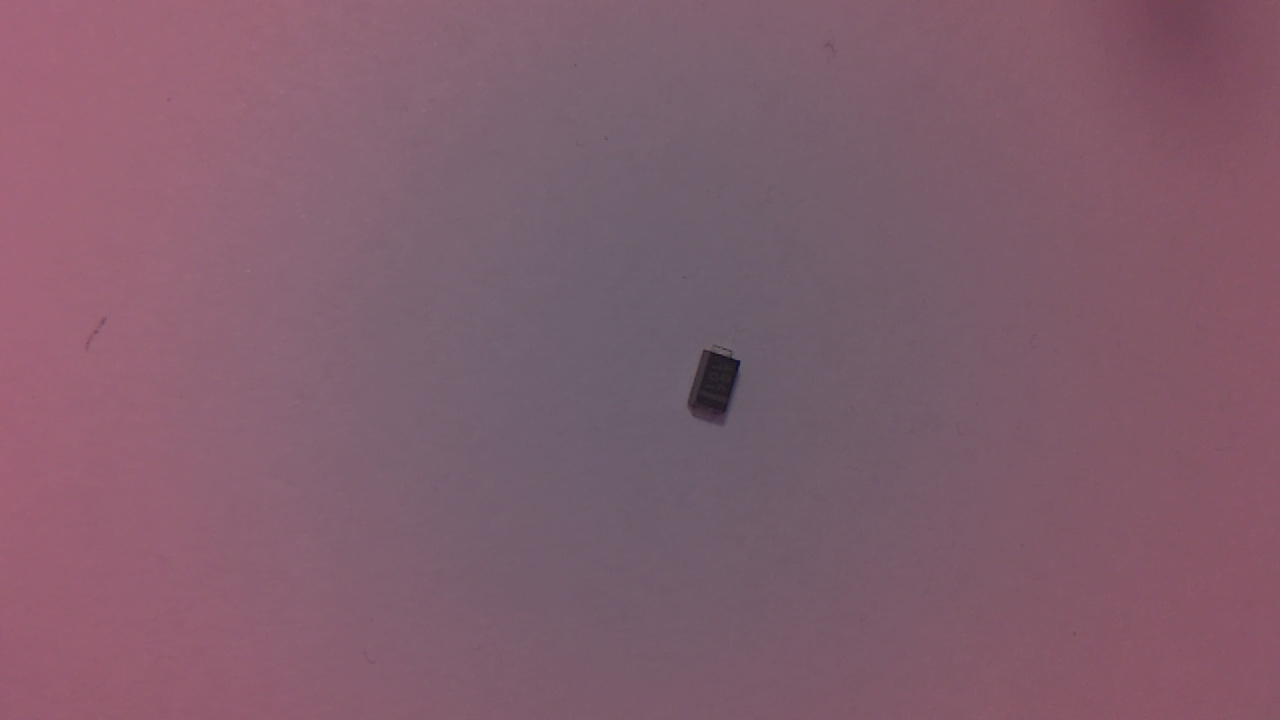Diode: (686, 347, 753, 429)
